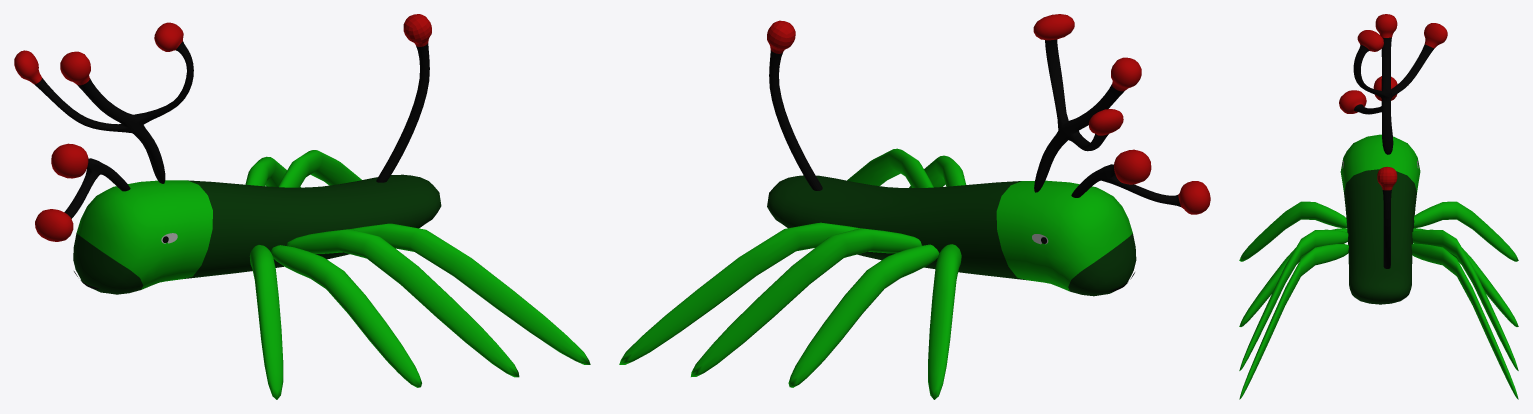
The model's file is grasshopper-2.obj.
The picture shows the model from 3 angles, left to right: view 1: azimuth 30°, elevation 25°; view 2: azimuth 150°, elevation 25°; view 3: azimuth 270°, elevation 25°; orthographic projection. The views are drawn at different scales.
Visible parts, largest first — view 1: Grasshopper_Cube.4117; view 2: Grasshopper_Cube.4117; view 3: Grasshopper_Cube.4117.
Part boxes in pixels (<box>): Grasshopper_Cube.4117: <box>14,14,590,399</box>; Grasshopper_Cube.4117: <box>619,14,1210,399</box>; Grasshopper_Cube.4117: <box>1239,14,1518,399</box>.
Bounding box in the file's own units: 2.03 × 1.45 × 1.45.
